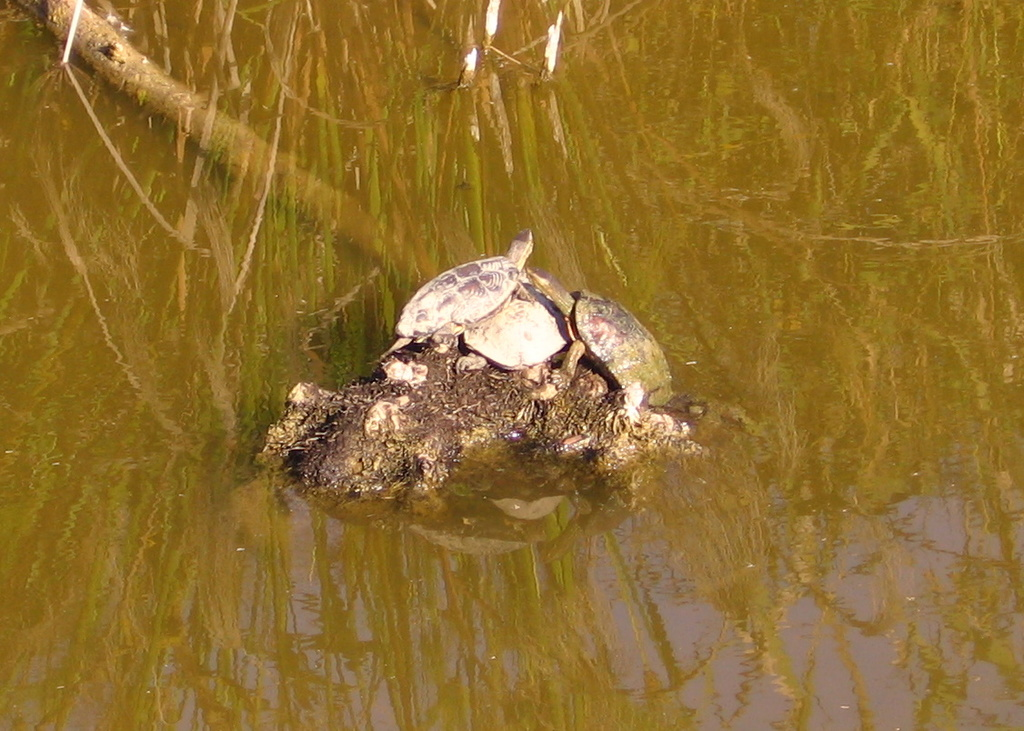Sea turtles: (533, 267, 672, 415), (380, 228, 531, 360), (455, 277, 570, 378)
